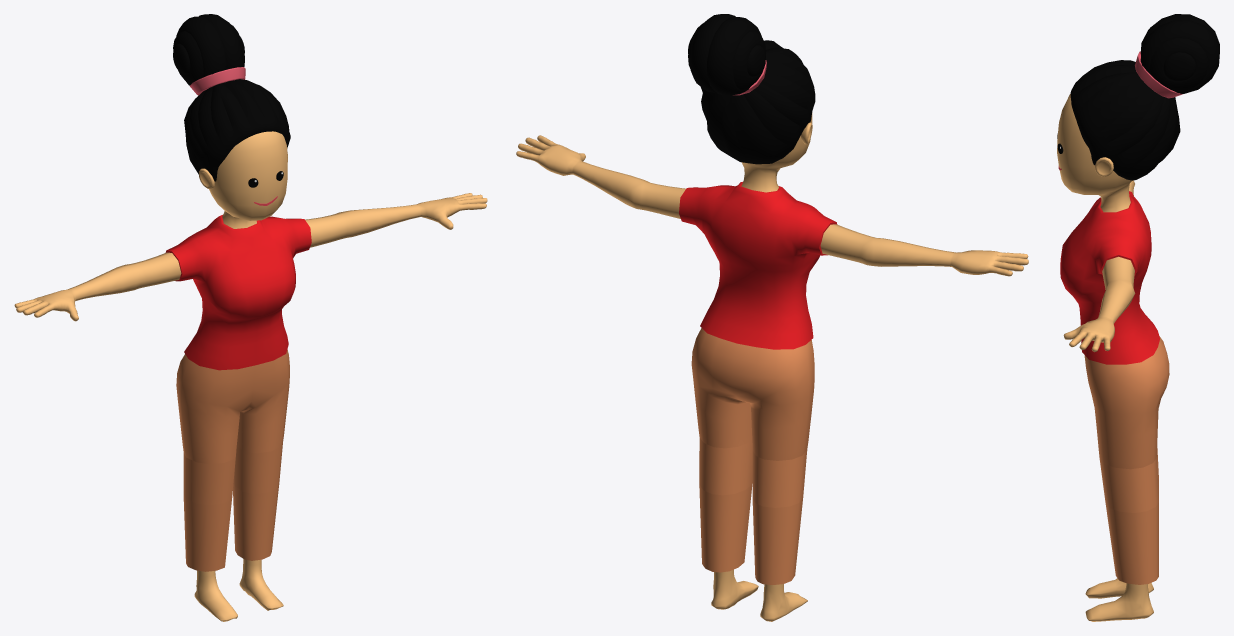
Rendered from ibuk tersenyum gapake bone.fbx.
3 views of the same model, side by side, from view 1: azimuth 30°, elevation 25°; view 2: azimuth 150°, elevation 25°; view 3: azimuth 270°, elevation 25° (orthographic). The views are drawn at different scales.
Parts seen in each view (by area): view 1: Female_shorts, Female_body, Female_tshirt, Female_hair; view 2: Female_shorts, Female_tshirt, Female_hair, Female_body; view 3: Female_hair, Female_shorts, Female_tshirt, Female_body.
Boxes of the visible parts, x1,y1,x2,y2 form: Female_shorts: (176,349,289,571); Female_body: (14,131,487,621); Female_tshirt: (165,215,311,370); Female_hair: (173,14,290,181); Female_shorts: (691,328,814,584); Female_tshirt: (679,182,837,349); Female_hair: (688,14,815,164); Female_body: (516,113,1028,621); Female_hair: (1070,14,1219,180); Female_shorts: (1084,336,1169,584); Female_tshirt: (1060,191,1159,364); Female_body: (1057,94,1153,621).
Bounding box in the file's own units: 153 × 178 × 44.61.
